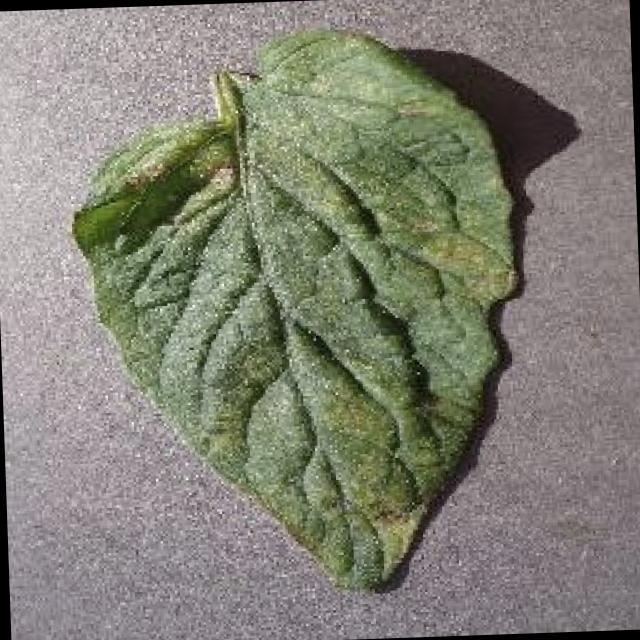Tomato spider mites leaf: (62, 23, 526, 602)
